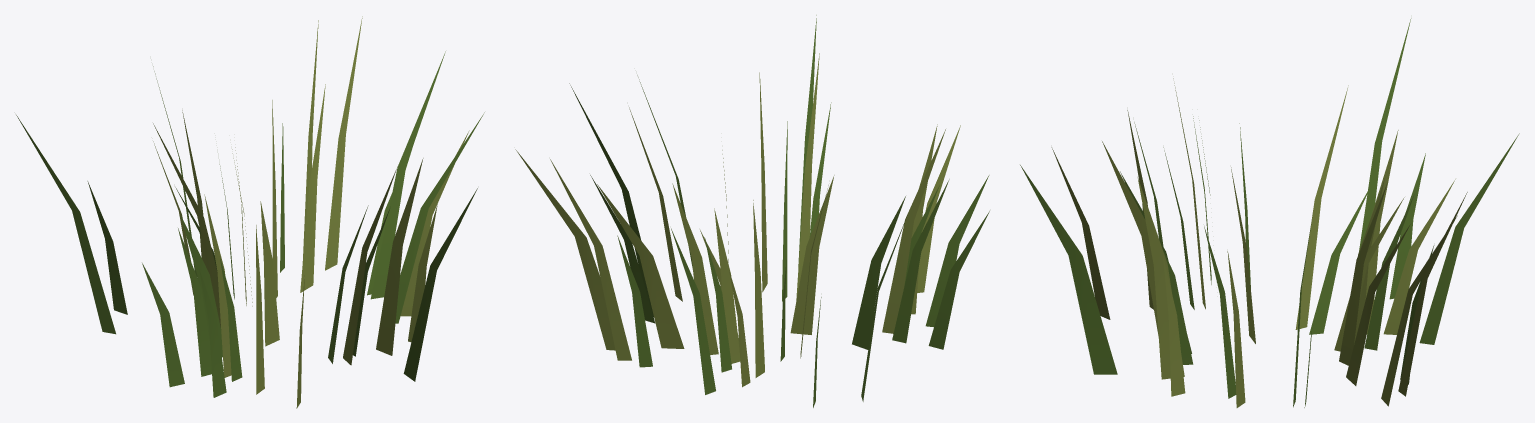
Rendered from n-grass.glb.
3 renders of one model, left to right at view 1: azimuth 30°, elevation 25°; view 2: azimuth 150°, elevation 25°; view 3: azimuth 270°, elevation 25°, orthographic. The views are drawn at different scales.
Parts seen in each view (by area): view 1: grass; view 2: grass; view 3: grass.
Boxes of the visible parts, bbox=[...] form: grass: bbox=[16, 16, 484, 408]; grass: bbox=[515, 15, 989, 407]; grass: bbox=[1020, 18, 1519, 407].
Size of the model in its own units: 1.21 by 0.6718 by 1.3.
